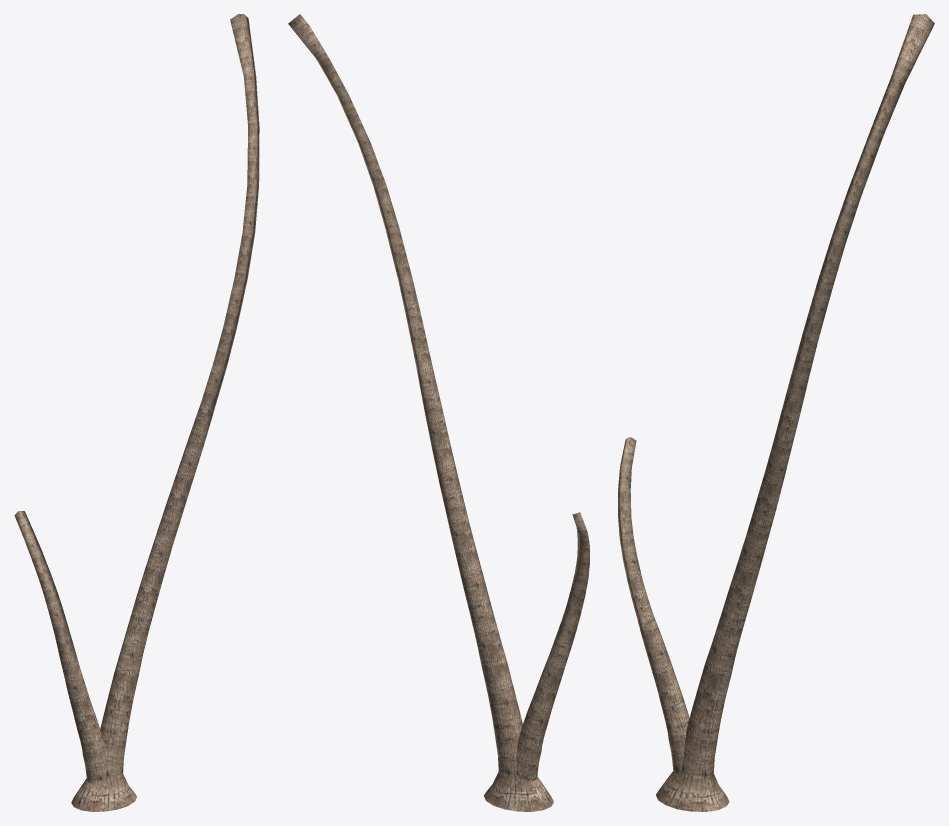
File: m_palm_p2_22_trunk_0.001_lev2.glb
The picture shows the model from 3 angles, left to right: view 1: azimuth 30°, elevation 25°; view 2: azimuth 150°, elevation 25°; view 3: azimuth 330°, elevation 25°; orthographic projection. The views are drawn at different scales.
Visible parts, largest first — view 1: m_palm_p2_22_trunk_0.001_lev2; view 2: m_palm_p2_22_trunk_0.001_lev2; view 3: m_palm_p2_22_trunk_0.001_lev2.
Boxes of the visible parts, x1=… form: m_palm_p2_22_trunk_0.001_lev2: x1=14, y1=14, x2=259, y2=811; m_palm_p2_22_trunk_0.001_lev2: x1=288, y1=14, x2=589, y2=811; m_palm_p2_22_trunk_0.001_lev2: x1=618, y1=14, x2=934, y2=811.
Size of the model in its own units: 1.87 by 5.04 by 0.6664.
1 material, 1 textured.
